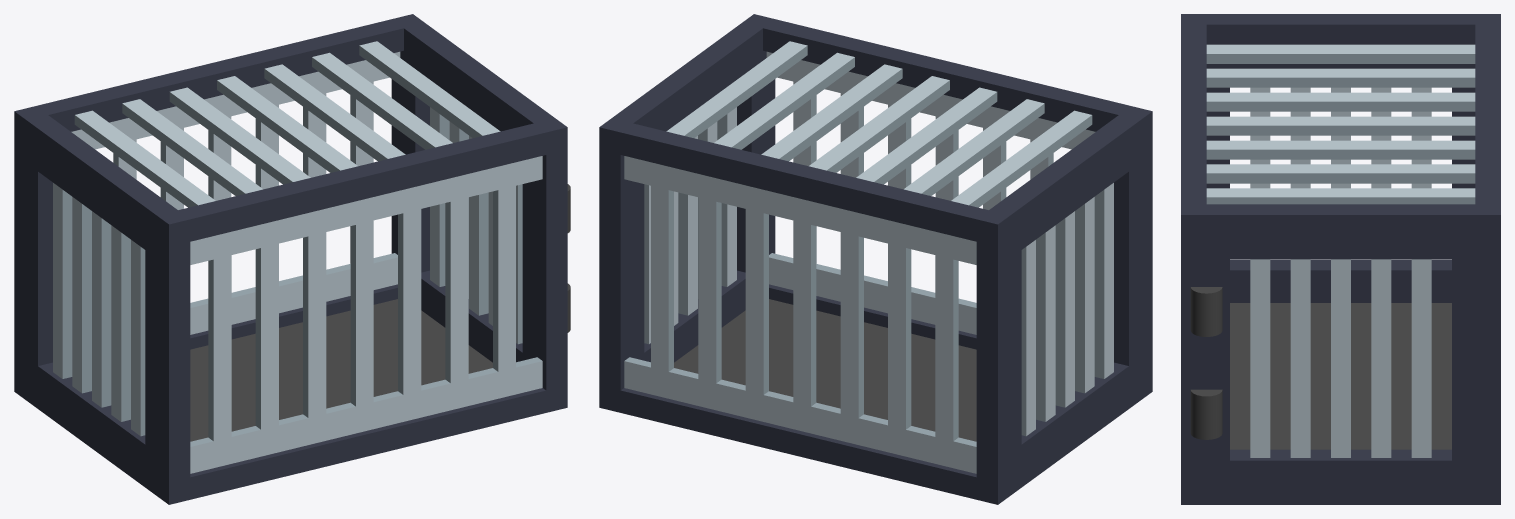
Rendered from Cage.fbx.
The picture shows the model from 3 angles, left to right: view 1: azimuth 30°, elevation 25°; view 2: azimuth 150°, elevation 25°; view 3: azimuth 270°, elevation 25°; orthographic projection. The views are drawn at different scales.
Visible parts, largest first — view 1: CageWallL, CageTop, CageWallB, CageFloor, CageWallR, CageWallF1; view 2: CageWallR, CageTop, CageWallB, CageFloor, CageWallL, CageWallF1; view 3: CageTop, CageWallF1, CageFloor, CageWallB, CageWallR, CageWallL.
Part boxes in pixels (x1=…): CageWallL: x1=156, y1=127, x2=567, y2=504; CageTop: x1=14, y1=14, x2=567, y2=237; CageWallB: x1=26, y1=143, x2=156, y2=472; CageFloor: x1=14, y1=288, x2=492, y2=504; CageWallR: x1=14, y1=50, x2=403, y2=391; CageWallF1: x1=404, y1=51, x2=570, y2=362; CageWallR: x1=599, y1=127, x2=1010, y2=504; CageTop: x1=599, y1=14, x2=1152, y2=237; CageWallB: x1=1010, y1=143, x2=1140, y2=472; CageFloor: x1=674, y1=288, x2=1152, y2=504; CageWallL: x1=763, y1=50, x2=1152, y2=391; CageWallF1: x1=633, y1=51, x2=762, y2=362; CageTop: x1=1181, y1=14, x2=1500, y2=238; CageWallF1: x1=1190, y1=238, x2=1475, y2=481; CageFloor: x1=1181, y1=291, x2=1500, y2=504; CageWallB: x1=1206, y1=64, x2=1475, y2=291; CageWallR: x1=1475, y1=215, x2=1500, y2=504; CageWallL: x1=1181, y1=215, x2=1206, y2=504.
Size of the model in its own units: 154 by 100 by 100.
